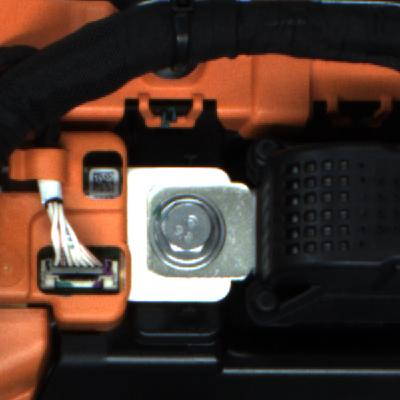nut_b: (143, 189, 227, 271)
